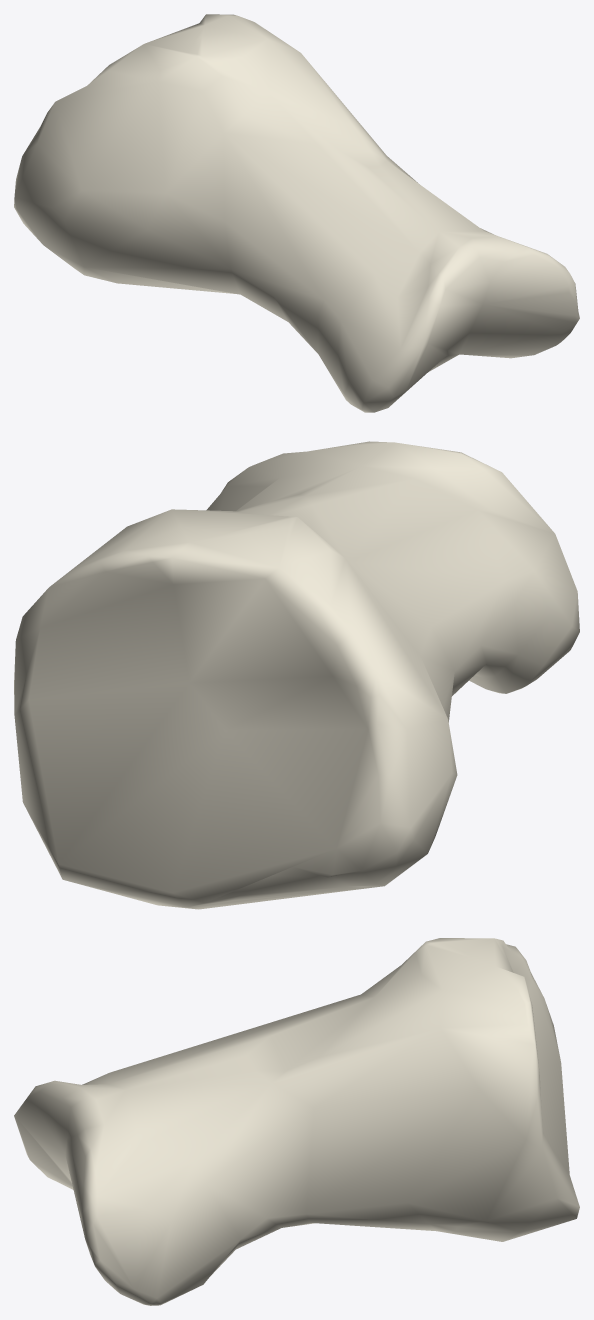
3 views of the same model, one above another, from view 1: azimuth 30°, elevation 25°; view 2: azimuth 150°, elevation 25°; view 3: azimuth 270°, elevation 25° (orthographic). The views are drawn at different scales.
Parts seen in each view (by area): view 1: ZA_ea4819f97e8c21aa; view 2: ZA_ea4819f97e8c21aa; view 3: ZA_ea4819f97e8c21aa.
Part boxes in pixels (x1,y1,x2,y2): ZA_ea4819f97e8c21aa: [14, 14, 579, 412]; ZA_ea4819f97e8c21aa: [14, 441, 579, 909]; ZA_ea4819f97e8c21aa: [14, 938, 579, 1305].
Bounding box in the file's own units: 0.0261 × 0.0177 × 0.0345.
